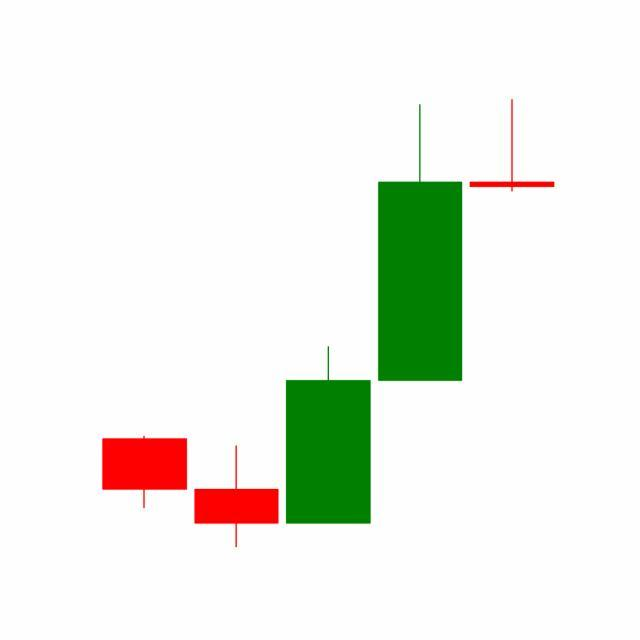Gravestone Doji: (466, 99, 559, 194)
